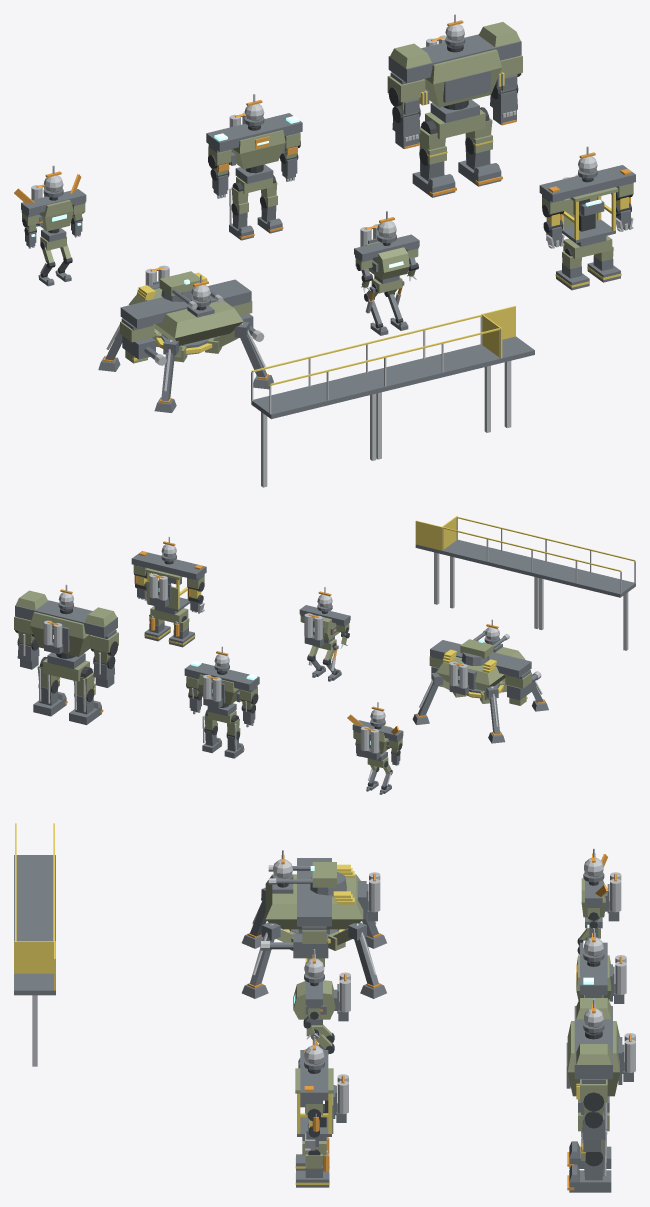
The model's file is mech-hangar-and-battle-frames-frame-and-gantry-connect-a0c6ca27__27001.glb.
3 views of the same model, one above another, from view 1: azimuth 30°, elevation 25°; view 2: azimuth 150°, elevation 25°; view 3: azimuth 270°, elevation 25° (orthographic). The views are drawn at different scales.
Visible parts, largest first — view 1: 013-assault-torso/0, 013-assault-torso/2, 036-gantry-straight/0, 037-gantry-straight/0, 031-loader-torso/0, 019-quad-torso/1, 012-assault-legs/0, 018-quad-legs/0, 019-quad-torso/0, 012-assault-legs/1, 007-line-torso/0, 036-gantry-straight/1 (+15 smaller); view 2: 013-assault-torso/2, 036-gantry-straight/0, 037-gantry-straight/0, 013-assault-torso/0, 012-assault-legs/0, 018-quad-legs/0, 031-loader-torso/0, 019-quad-torso/0, 007-line-torso/0, 012-assault-legs/1, 038-gantry-corner/2, 019-quad-torso/1 (+21 smaller); view 3: 018-quad-legs/0, 013-assault-torso/2, 036-gantry-straight/0, 019-quad-torso/1, 019-quad-torso/0, 013-assault-torso/0, 012-assault-legs/0, 031-loader-torso/0, 038-gantry-corner/2, 019-quad-torso/turret (×2), 037-gantry-straight/0, 007-line-torso/0 (+7 smaller).
Part boxes in pixels (left/top/right/bottom): 013-assault-torso/0: left=388, top=34, right=521, bottom=118; 013-assault-torso/2: left=390, top=22, right=520, bottom=107; 036-gantry-straight/0: left=251, top=372, right=385, bottom=419; 037-gantry-straight/0: left=367, top=344, right=500, bottom=390; 031-loader-torso/0: left=539, top=165, right=635, bottom=243; 019-quad-torso/1: left=128, top=288, right=243, bottom=345; 012-assault-legs/0: left=412, top=108, right=501, bottom=197; 018-quad-legs/0: left=98, top=321, right=273, bottom=412; 019-quad-torso/0: left=120, top=279, right=251, bottom=328; 012-assault-legs/1: left=419, top=109, right=492, bottom=164; 007-line-torso/0: left=206, top=113, right=302, bottom=180; 036-gantry-straight/1: left=251, top=344, right=386, bottom=487; 013-assault-torso/2: left=16, top=590, right=117, bottom=656; 036-gantry-straight/0: left=531, top=561, right=635, bottom=597; 037-gantry-straight/0: left=442, top=539, right=545, bottom=575; 013-assault-torso/0: left=15, top=600, right=117, bottom=665; 012-assault-legs/0: left=33, top=657, right=101, bottom=725; 018-quad-legs/0: left=412, top=672, right=548, bottom=743; 031-loader-torso/0: left=131, top=551, right=206, bottom=611; 019-quad-torso/0: left=430, top=640, right=531, bottom=689; 007-line-torso/0: left=184, top=663, right=259, bottom=713; 012-assault-legs/1: left=37, top=658, right=95, bottom=697; 038-gantry-corner/2: left=415, top=516, right=457, bottom=550; 019-quad-torso/1: left=436, top=641, right=525, bottom=691; 018-quad-legs/0: left=241, top=887, right=386, bottom=998; 013-assault-torso/2: left=567, top=998, right=619, bottom=1096; 036-gantry-straight/0: left=14, top=855, right=55, bottom=913; 019-quad-torso/1: left=265, top=874, right=363, bottom=929; 019-quad-torso/0: left=272, top=858, right=366, bottom=929; 013-assault-torso/0: left=566, top=1006, right=622, bottom=1107; 012-assault-legs/0: left=569, top=1107, right=611, bottom=1192; 031-loader-torso/0: left=297, top=1050, right=335, bottom=1137; 038-gantry-corner/2: left=14, top=941, right=55, bottom=990; 019-quad-torso/turret (×2): left=276, top=862, right=346, bottom=896; 037-gantry-straight/0: left=14, top=914, right=55, bottom=941; 007-line-torso/0: left=580, top=942, right=612, bottom=1001.
Size of the model in its own units: 18.25 by 5.54 by 17.81.
